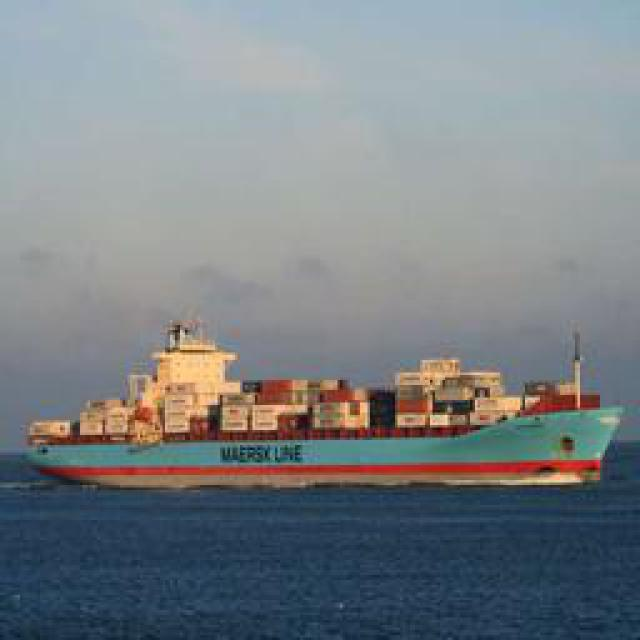Ship: (34, 320, 629, 490)
